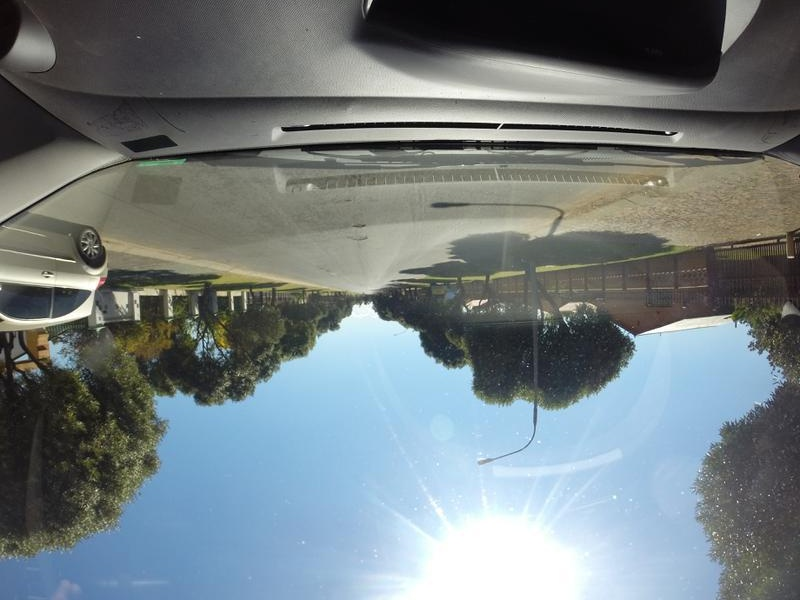pothole: (340, 236, 367, 244), (351, 218, 365, 232)
